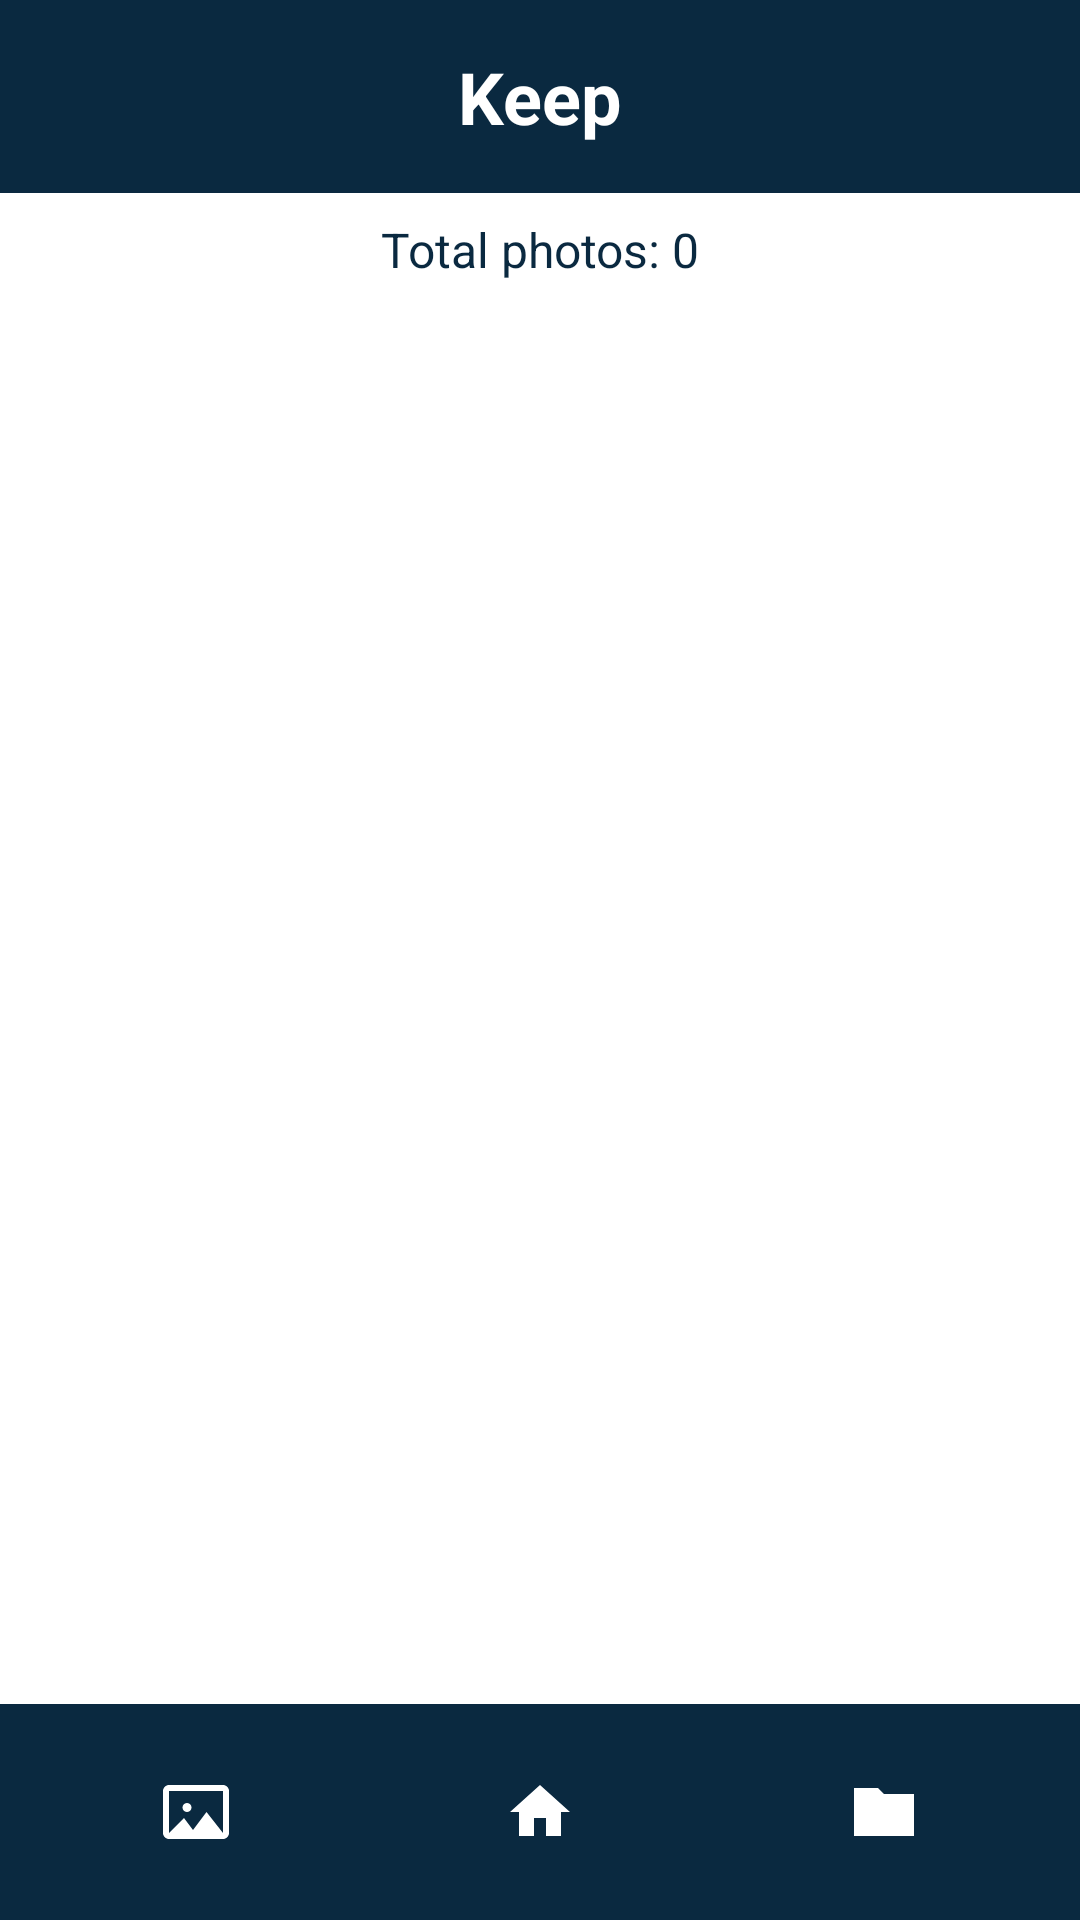

Named icons in this screenshot (1080 x 1920) and their centers, (x,y):
Go to Home: (540,1810)
Open Gallery: (196,1812)
